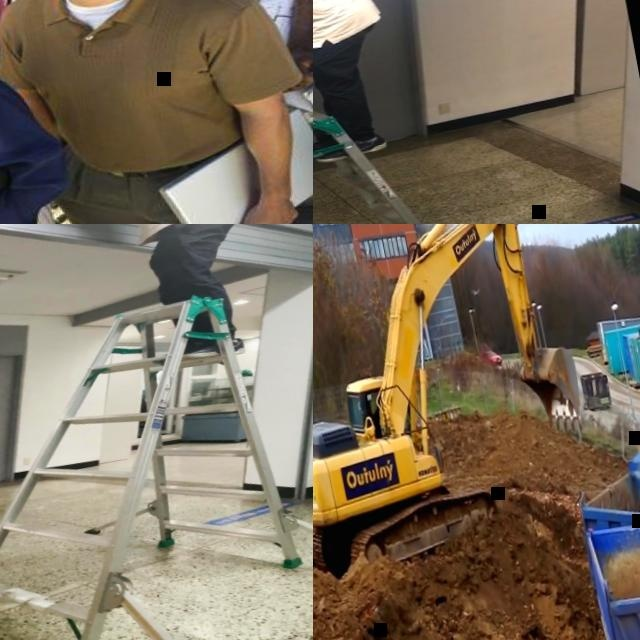NO-Safety Vest: (0, 0, 254, 193)
Person: (0, 0, 313, 224), (44, 224, 267, 379), (0, 0, 91, 224), (223, 0, 313, 224), (313, 0, 404, 183)
machinery: (313, 224, 605, 585), (570, 433, 640, 619)
vehicle: (0, 0, 313, 205), (478, 345, 502, 369)
